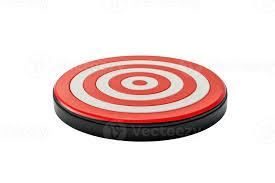target_red: (52, 54, 228, 141)
